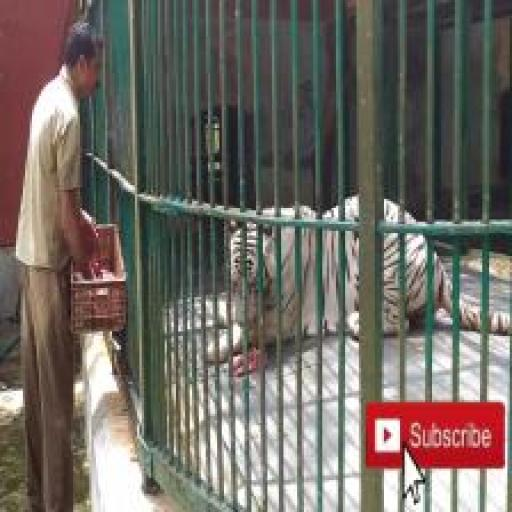Tiger: (199, 192, 511, 367)
